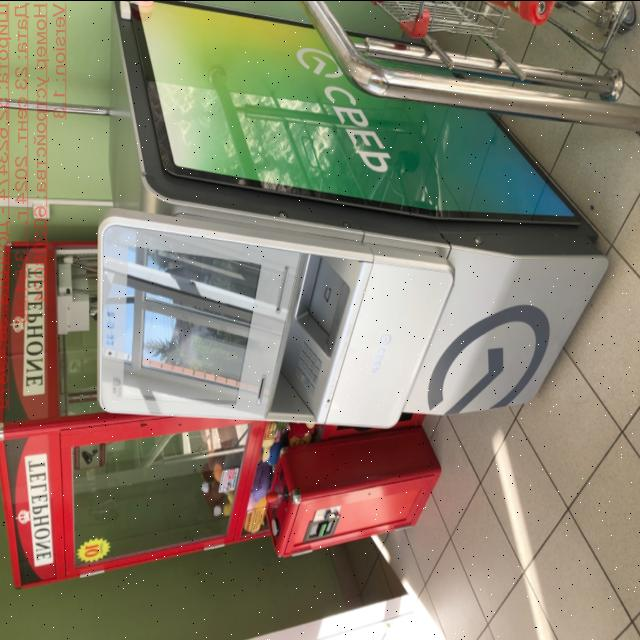bank: (99, 0, 606, 430)
